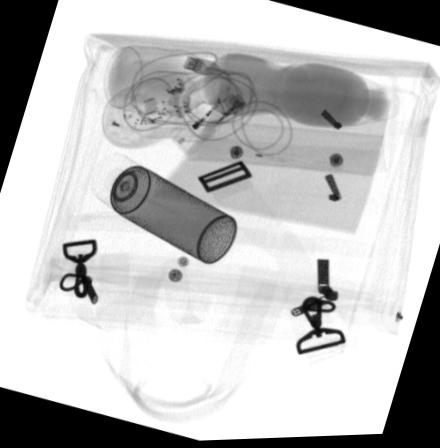Lighter: (171, 87, 248, 157)
Sprayer: (90, 151, 237, 264)
